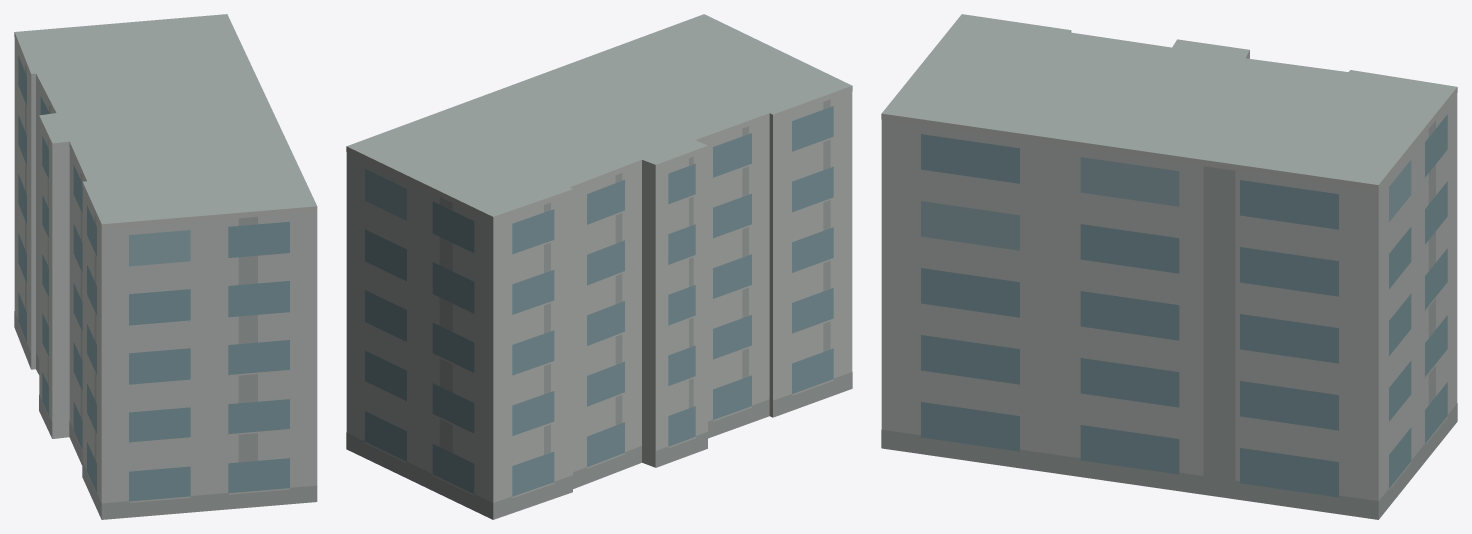
The model's file is survey-upis-32519526.glb.
3 views of the same model, side by side, from view 1: azimuth 30°, elevation 25°; view 2: azimuth 150°, elevation 25°; view 3: azimuth 270°, elevation 25° (orthographic). The views are drawn at different scales.
Parts seen in each view (by area): view 1: survey-upis-32519526.tmp; view 2: survey-upis-32519526.tmp; view 3: survey-upis-32519526.tmp.
Boxes of the visible parts, box(x1,y1,x2,y2) form: survey-upis-32519526.tmp: box(14, 14, 317, 519); survey-upis-32519526.tmp: box(346, 14, 852, 519); survey-upis-32519526.tmp: box(881, 14, 1457, 519).
Size of the model in its own units: 14.48 by 13.2 by 20.59.
